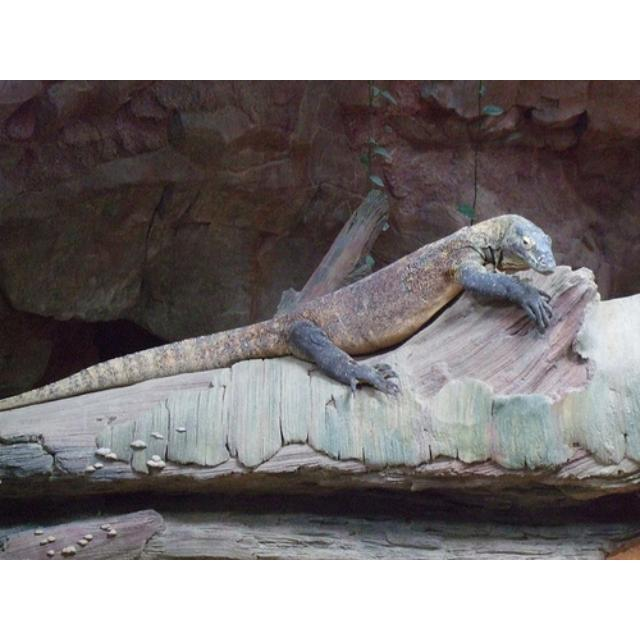KomodoDragon: (1, 213, 556, 411)
